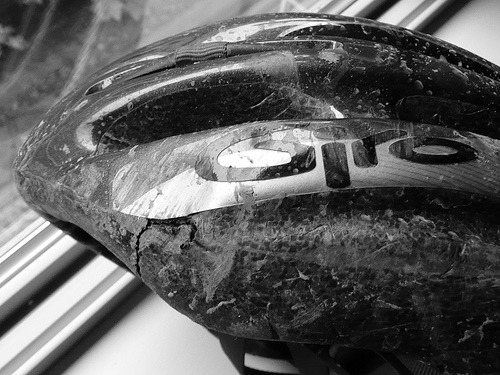helmet: (76, 21, 497, 341)
